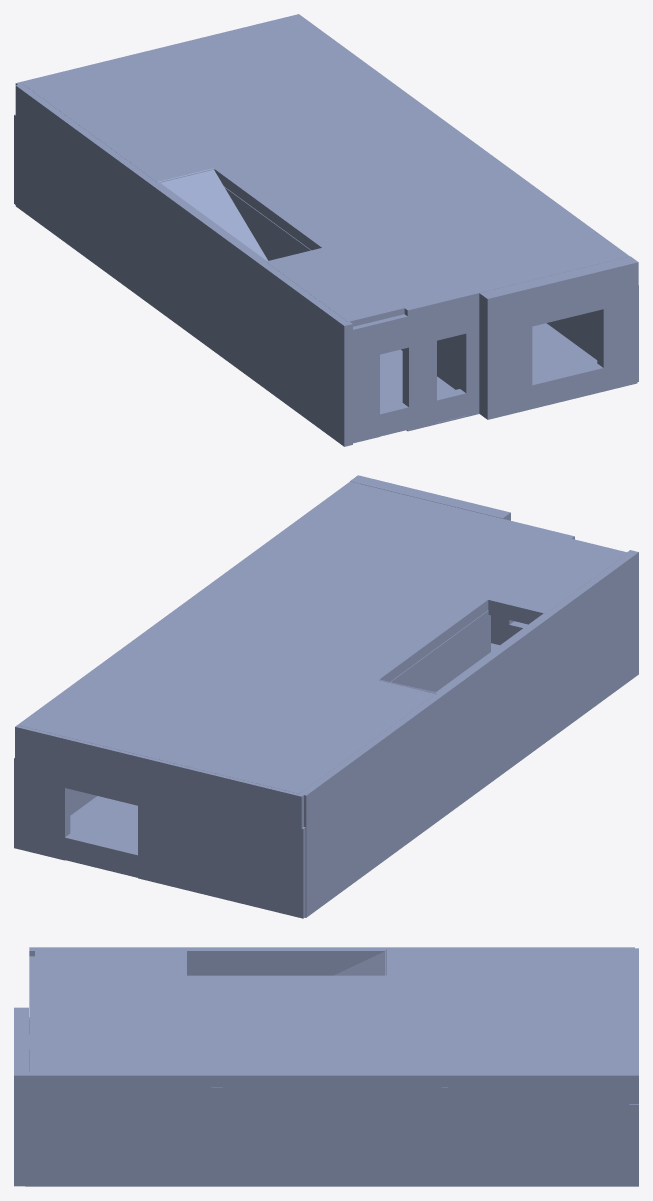
Rendered from HouseB_MidFloor_collision.fbx.
The picture shows the model from 3 angles, top to bottom: view 1: azimuth 30°, elevation 25°; view 2: azimuth 150°, elevation 25°; view 3: azimuth 270°, elevation 25°; orthographic projection. The views are drawn at different scales.
Parts seen in each view (by area): view 1: HouseB_MidFloor_collision; view 2: HouseB_MidFloor_collision; view 3: HouseB_MidFloor_collision.
Boxes of the visible parts, bbox=[...] form: HouseB_MidFloor_collision: bbox=[14, 14, 638, 446]; HouseB_MidFloor_collision: bbox=[14, 475, 638, 918]; HouseB_MidFloor_collision: bbox=[14, 947, 638, 1186].
Size of the model in its own units: 999 by 405 by 2049.
